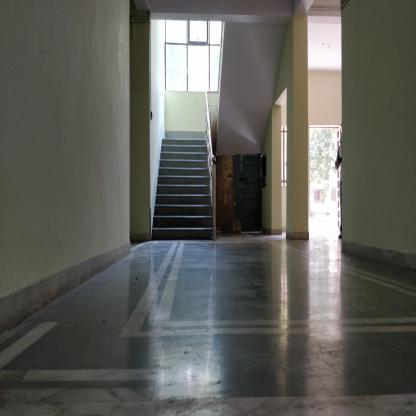stairs: (164, 135, 207, 245)
